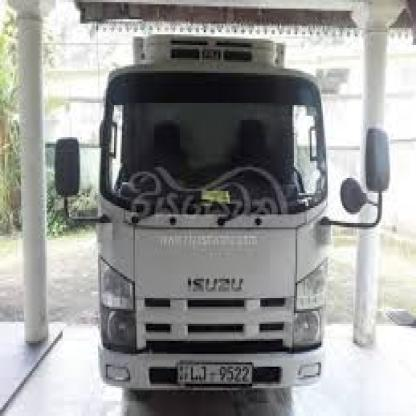Lorry front: (49, 28, 395, 403)
number plate: (177, 364, 254, 386)
